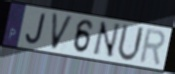6: (72, 18, 95, 54)
J: (24, 13, 48, 46)
N: (90, 21, 122, 60)
R: (137, 27, 167, 69)
U: (116, 22, 146, 64)
V: (51, 11, 75, 52)
